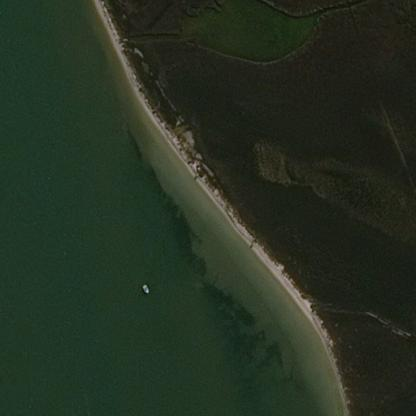ship: (136, 280, 154, 296)
